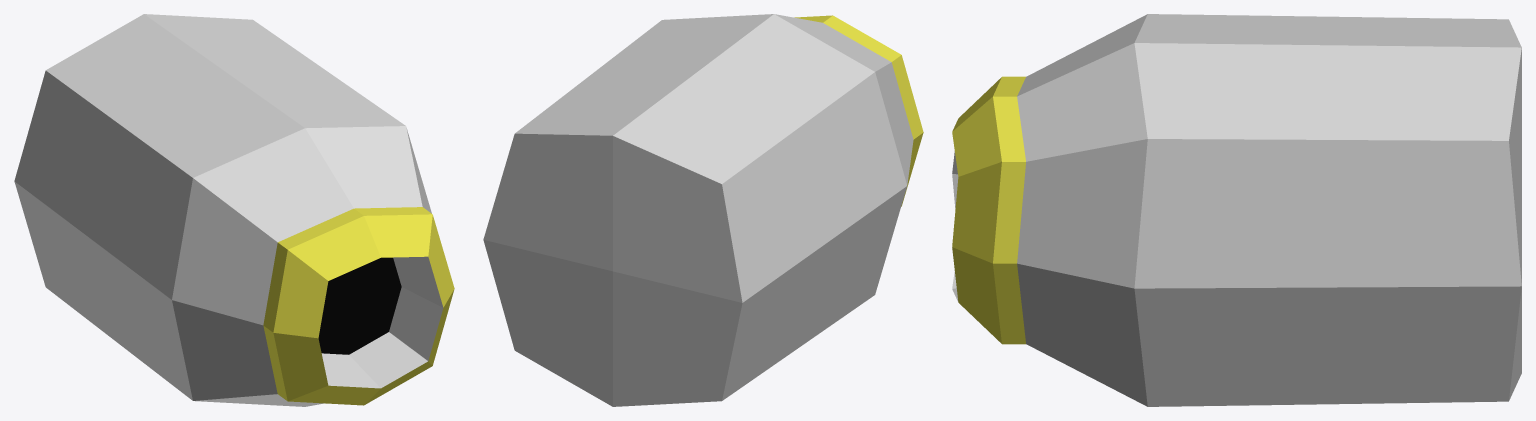
The model's file is bulletGun.fbx.
3 renders of one model, left to right at view 1: azimuth 30°, elevation 25°; view 2: azimuth 150°, elevation 25°; view 3: azimuth 270°, elevation 25°, orthographic. The views are drawn at different scales.
Visible parts, largest first — view 1: Cube; view 2: Cube; view 3: Cube.
Part boxes in pixels (x1,y1,x2,y2): Cube: [14, 14, 454, 406]; Cube: [483, 14, 923, 406]; Cube: [952, 14, 1521, 406].
Bounding box in the file's own units: 200 × 200 × 308.
